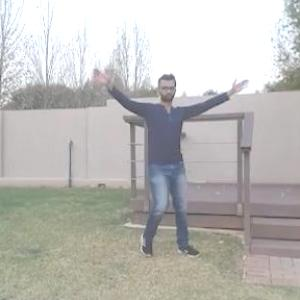takeoff: (93, 69, 250, 258)
